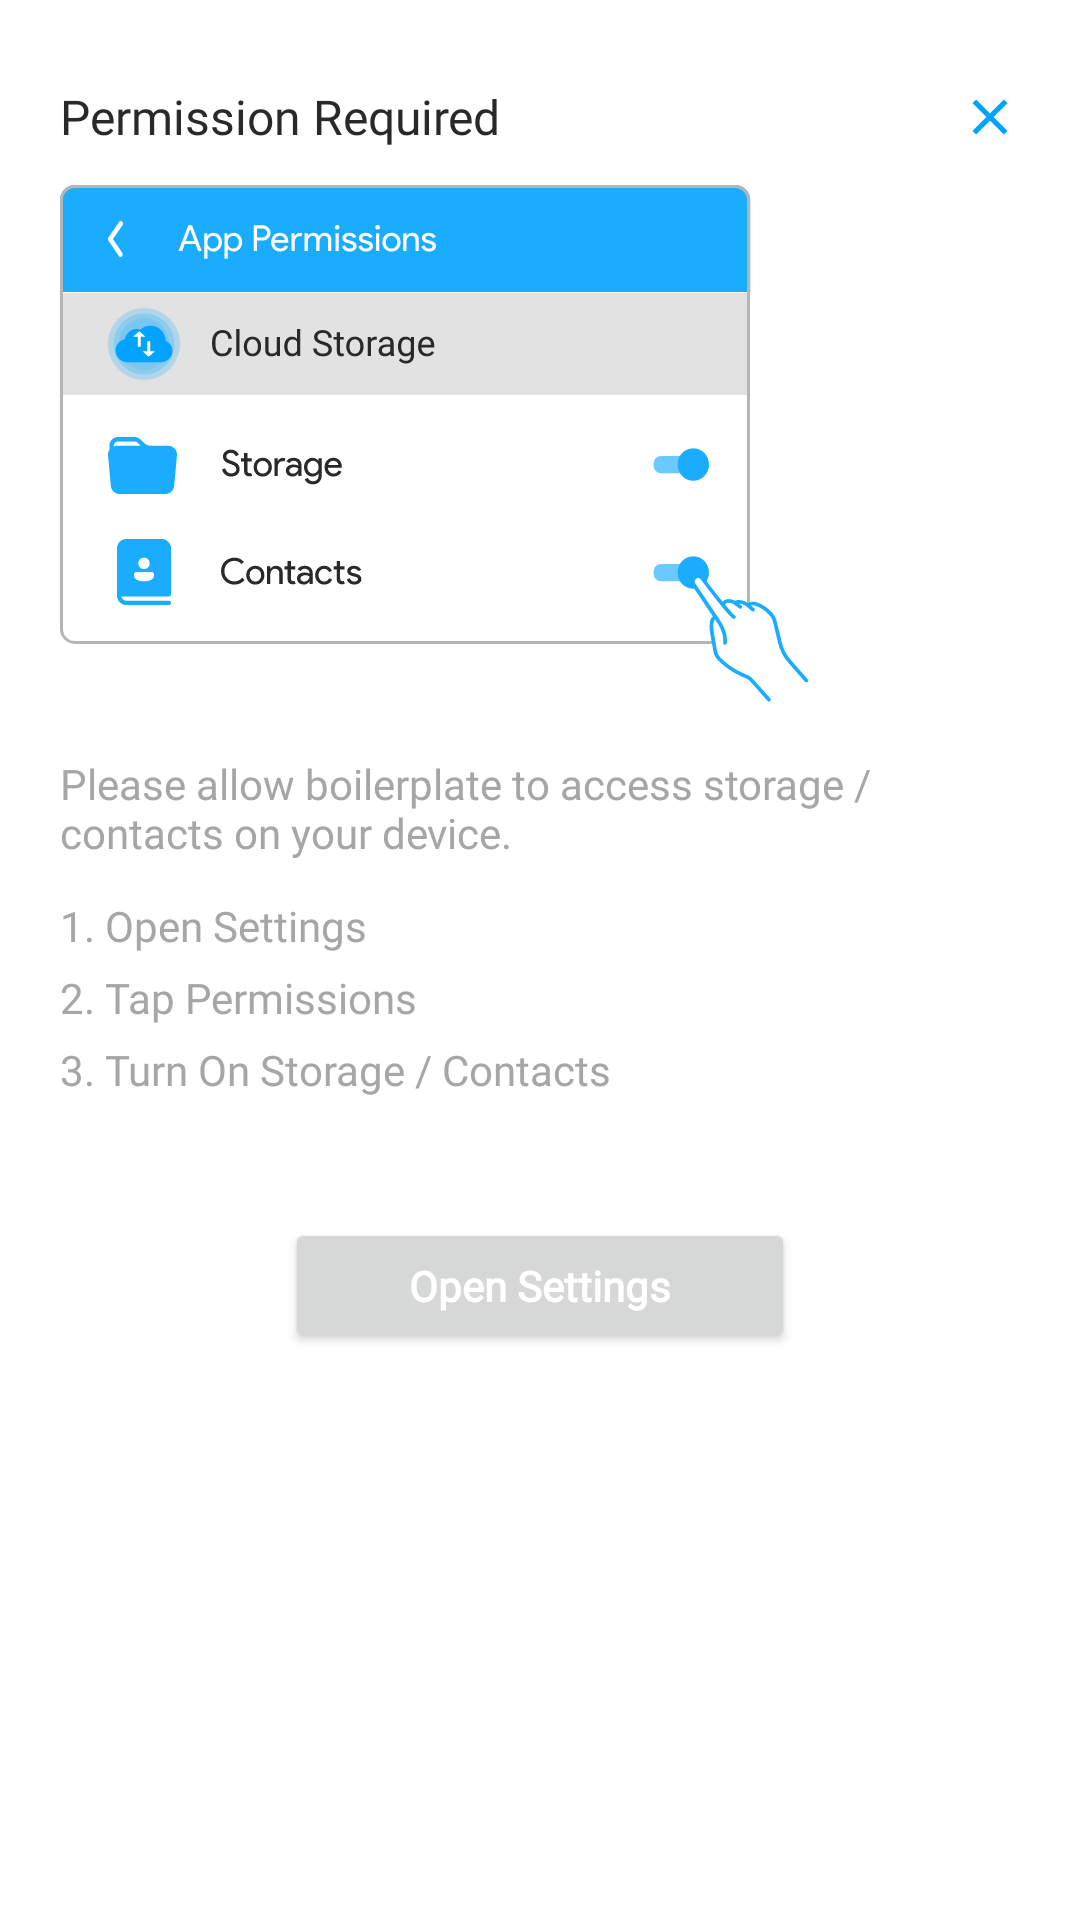

Where icons sit on this 1080px x 1920px app screen, as (left=x1, top=y1, right=x2, bottom=y2):
close: (left=972, top=99, right=1008, bottom=135)
